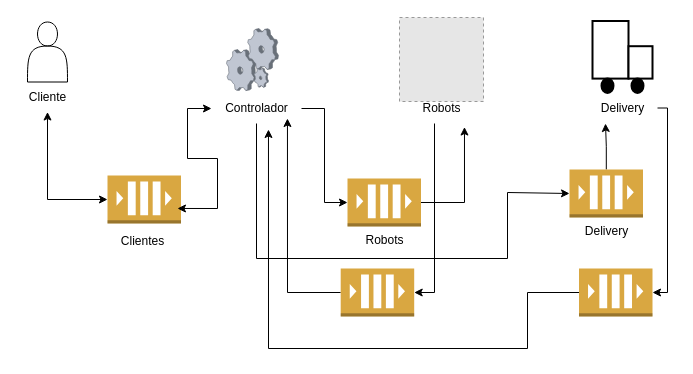
This 693x374 diagram has some shape labels left out. Grey dashed boxes stand in for pictures. The centre of each missing label's shape, as x and y in pixels:
"Delivery - respuesta" belongs at pixel 615 292.
"Robots - respuesta" belongs at pixel 377 292.
